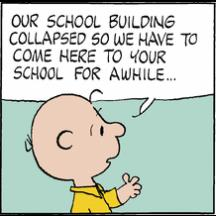charlie: (22, 86, 144, 214)
